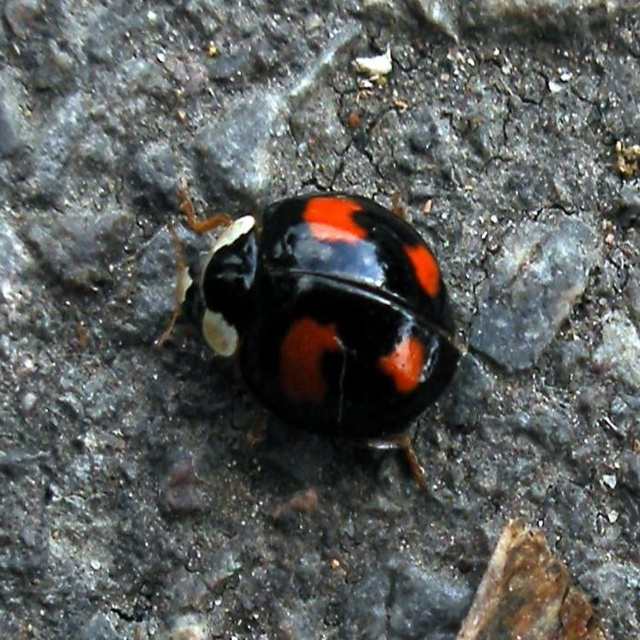Ladybug: (181, 188, 468, 481)
